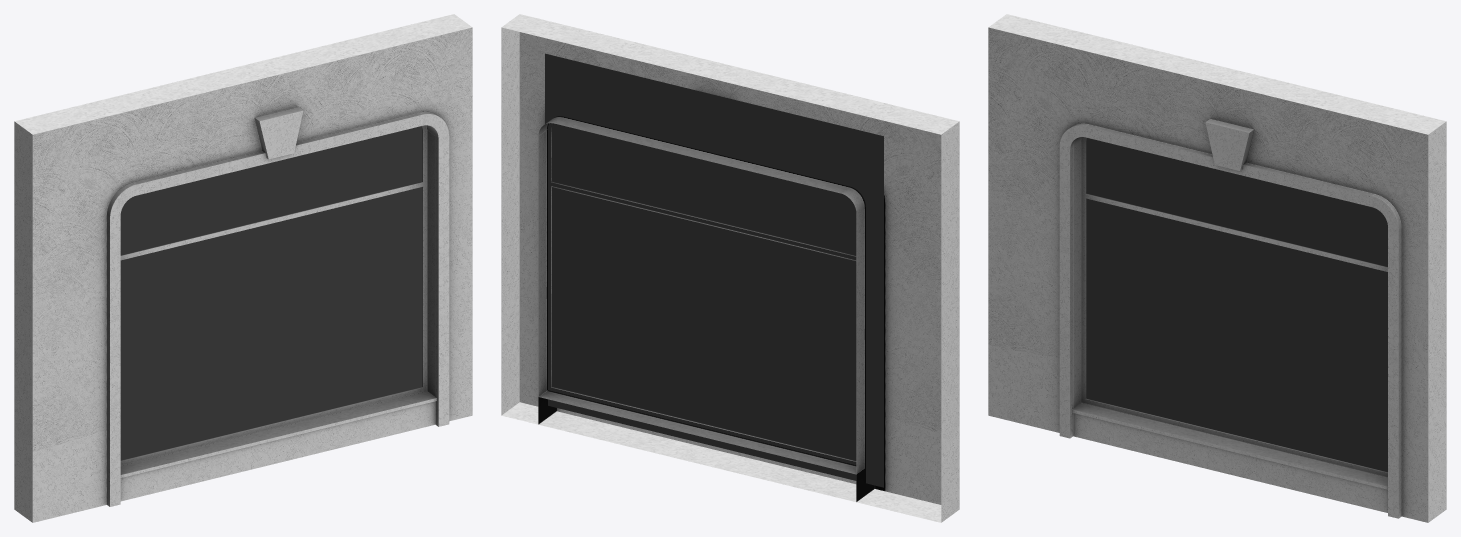
Rendered from floorfirst_3.glb.
3 views of the same model, side by side, from view 1: azimuth 30°, elevation 25°; view 2: azimuth 150°, elevation 25°; view 3: azimuth 330°, elevation 25° (orthographic).
Parts seen in each view (by area): view 1: floorfirst_3; view 2: floorfirst_3; view 3: floorfirst_3.
Boxes of the visible parts, left/top/right/bottom form: floorfirst_3: left=14, top=14, right=472, bottom=522; floorfirst_3: left=501, top=14, right=959, bottom=522; floorfirst_3: left=988, top=14, right=1446, bottom=522.
Size of the model in its own units: 4.15 by 3.5 by 0.379.
3 materials, 2 textured.
